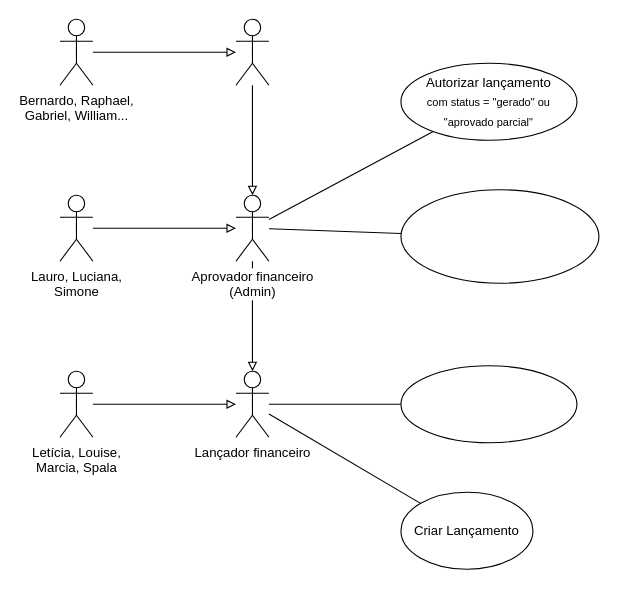
This 618x589 diagram has some shape labels left out. Here are the shapes that lost their labels. From the top down, the box of each, then its label:
(235, 18, 269, 85): Admin master
(400, 189, 599, 283): Editar/Deletar Lançamento com status = "aprovado parcial" ou "aprovado"
(400, 365, 577, 443): Editar/Deletar Lançamento com status = "gerado"
